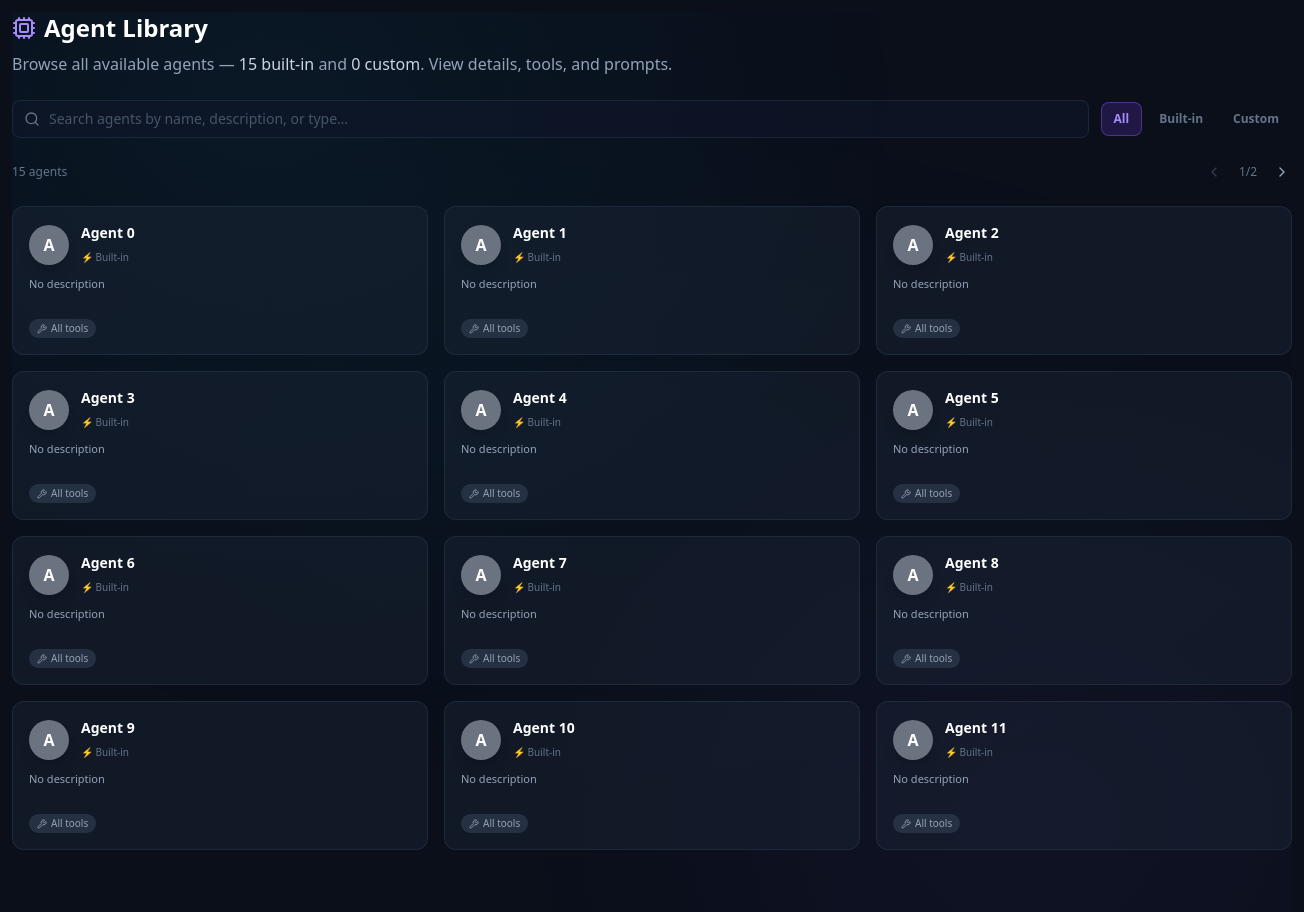
Test case: AgentLibrary › navigates pages
# Go to page 2
Click the 5th button: (1282,172) [1272,162,1292,182]
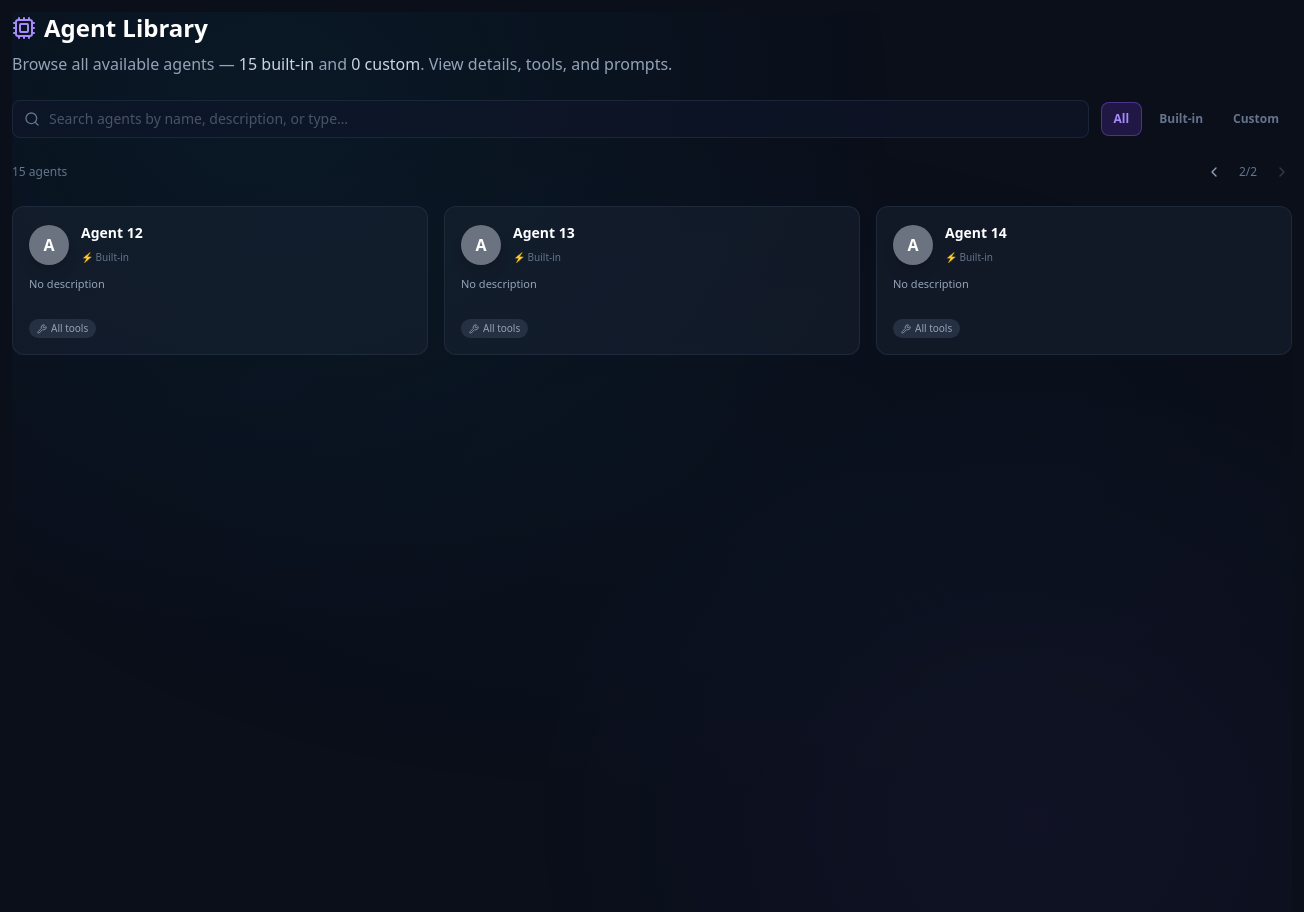
Expected: the heading "Agent 12" is shown, [81,223,143,242]
Expected: the heading "Agent 0" is gone
Expected: the text "2/2" is shown, [1239,163,1257,180]
# Go back to page 1 via prev button
Click the 4th button: (1214,172) [1204,162,1224,182]
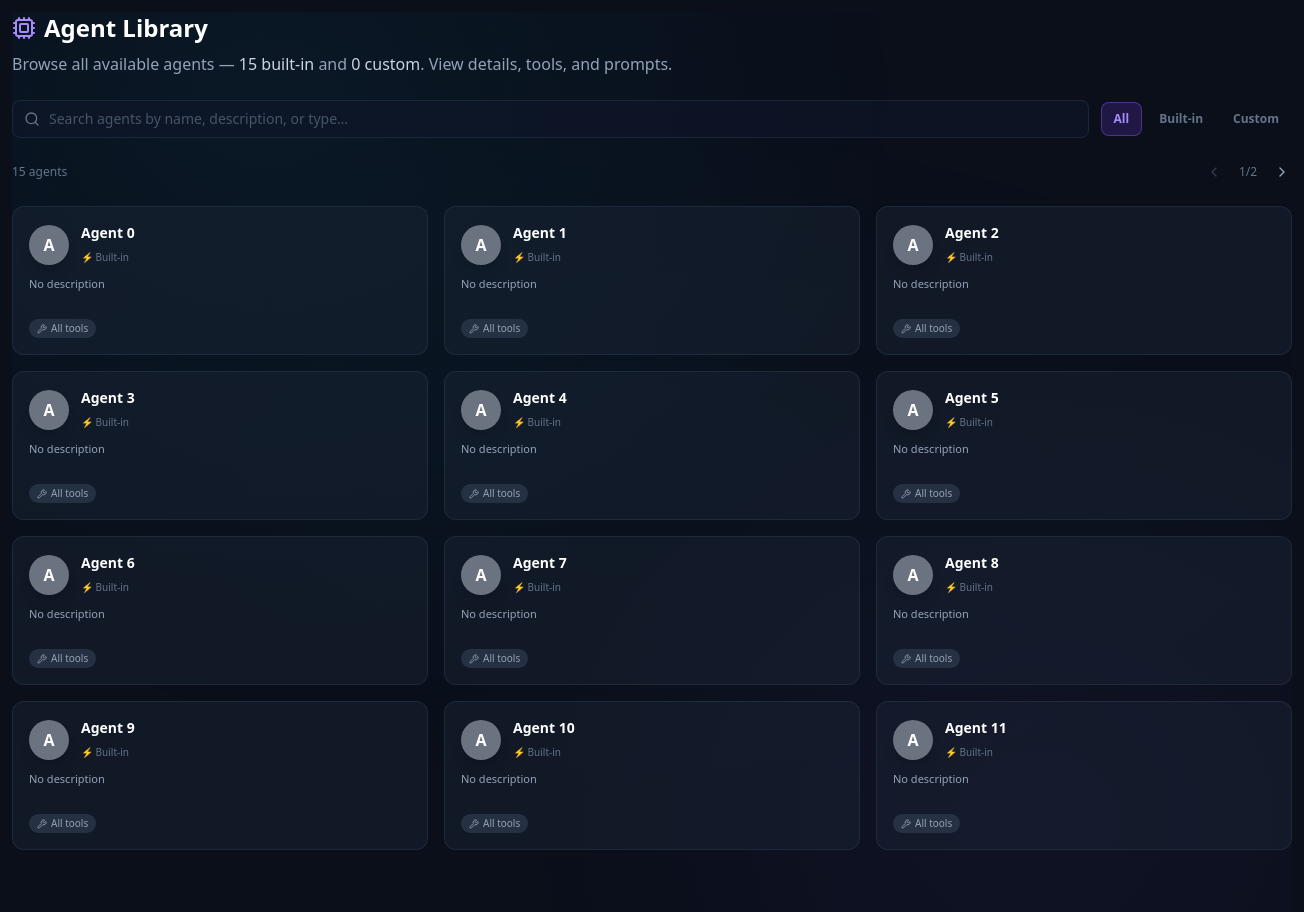
Expected: the heading "Agent 0" is shown, [81,223,135,242]
Expected: the text "1/2" is shown, [1239,163,1257,180]
